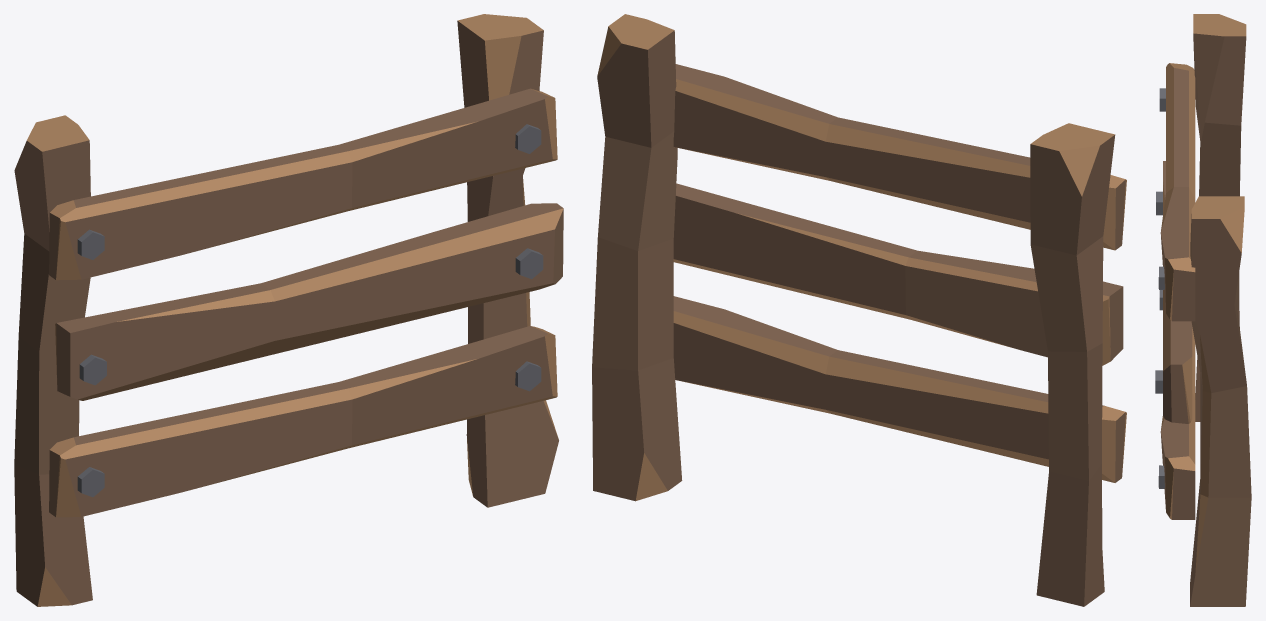
The model's file is Fence_2.fbx.
3 views of the same model, side by side, from view 1: azimuth 30°, elevation 25°; view 2: azimuth 150°, elevation 25°; view 3: azimuth 270°, elevation 25° (orthographic). The views are drawn at different scales.
Parts seen in each view (by area): view 1: Fence_2; view 2: Fence_2; view 3: Fence_2.
Part boxes in pixels (<box>): Fence_2: <box>14,14,563,606</box>; Fence_2: <box>592,14,1126,606</box>; Fence_2: <box>1155,14,1251,606</box>.
Size of the model in its own units: 44.75 by 38.14 by 8.58.
